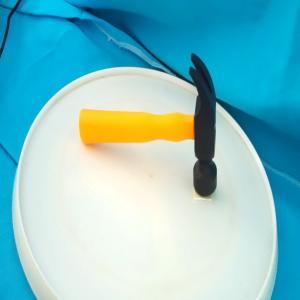martelo: (78, 50, 217, 195)
